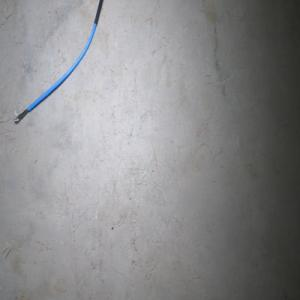Wire: (13, 0, 103, 124)
